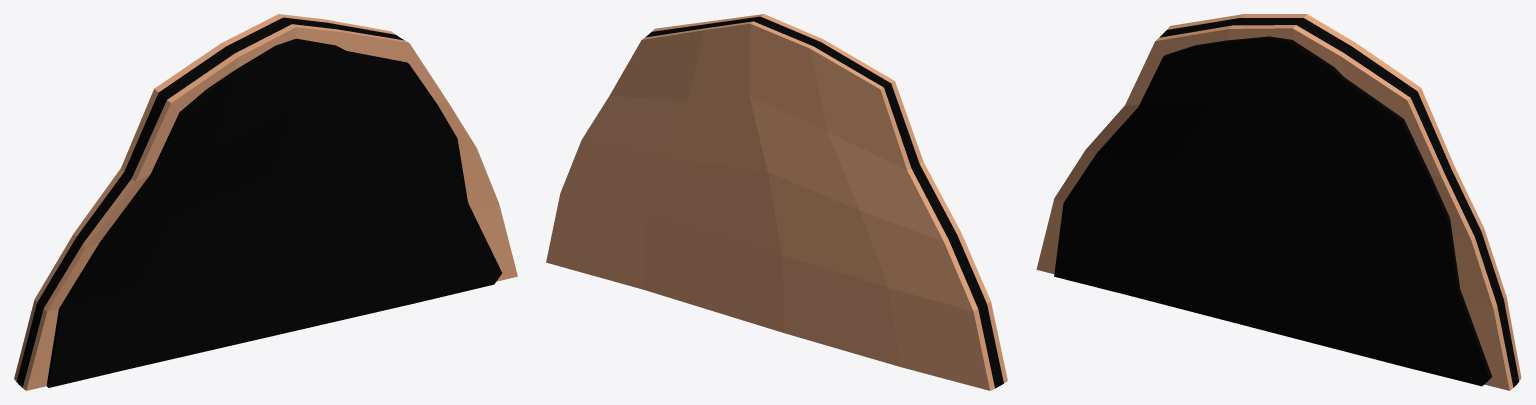
The model's file is CardboardBush.fbx.
The picture shows the model from 3 angles, left to right: view 1: azimuth 30°, elevation 25°; view 2: azimuth 150°, elevation 25°; view 3: azimuth 330°, elevation 25°; orthographic projection. The views are drawn at different scales.
Visible parts, largest first — view 1: Cube; view 2: Cube; view 3: Cube.
Boxes of the visible parts, left/top/right/bottom form: Cube: left=14, top=14, right=517, bottom=390; Cube: left=546, top=14, right=1007, bottom=390; Cube: left=1036, top=14, right=1521, bottom=390.
Size of the model in its own units: 320 by 198 by 36.11.
